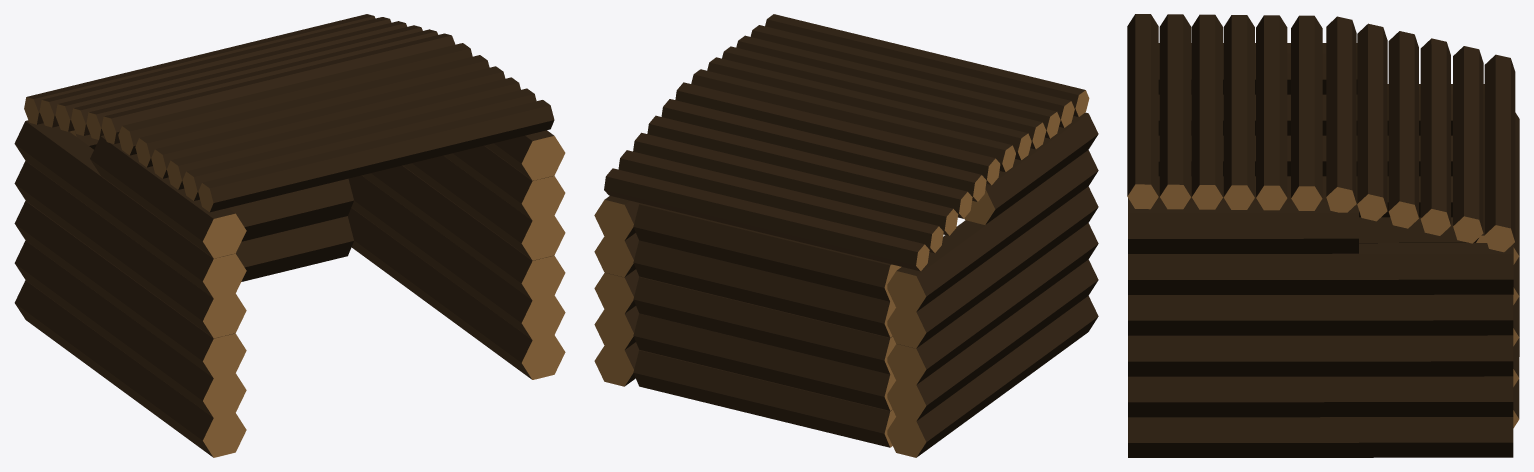
Rendered from houzhuesli.fbx.
3 renders of one model, left to right at view 1: azimuth 30°, elevation 25°; view 2: azimuth 150°, elevation 25°; view 3: azimuth 270°, elevation 25°, orthographic. The views are drawn at different scales.
Parts seen in each view (by area): view 1: Houzhuesi_1; view 2: Houzhuesi_1; view 3: Houzhuesi_1.
Boxes of the visible parts, x1,y1,x2,y2 form: Houzhuesi_1: (14,14,565,457); Houzhuesi_1: (594,14,1098,457); Houzhuesi_1: (1127,14,1519,457).
Bounding box in the file's own units: 0.675 × 0.4751 × 0.6175.
